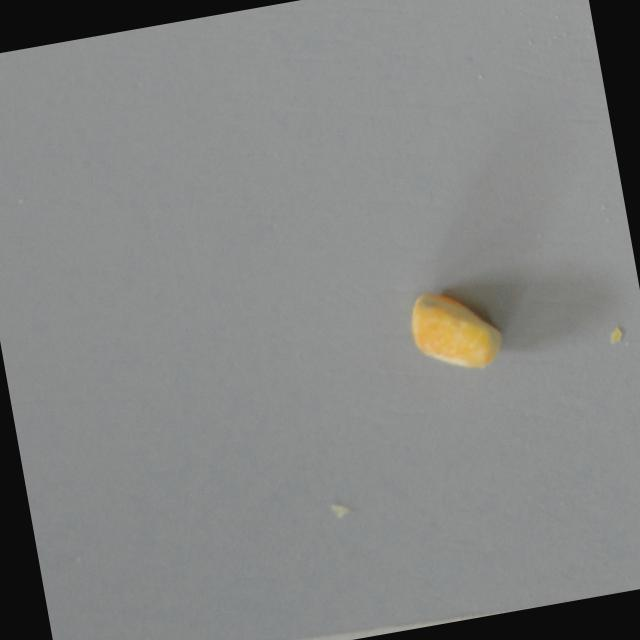pelicula: (401, 281, 508, 382)
